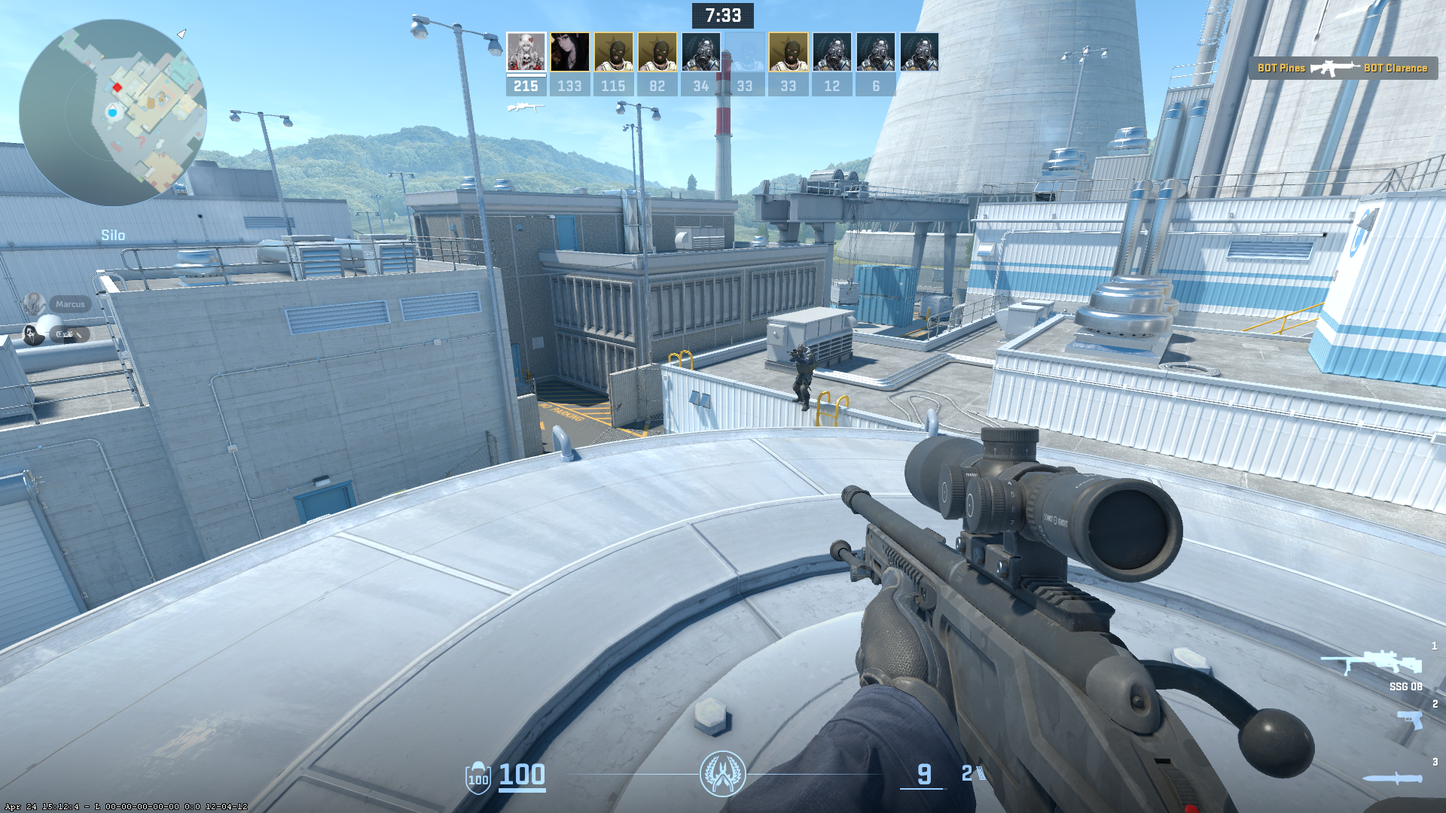CT: (790, 344, 815, 411)
